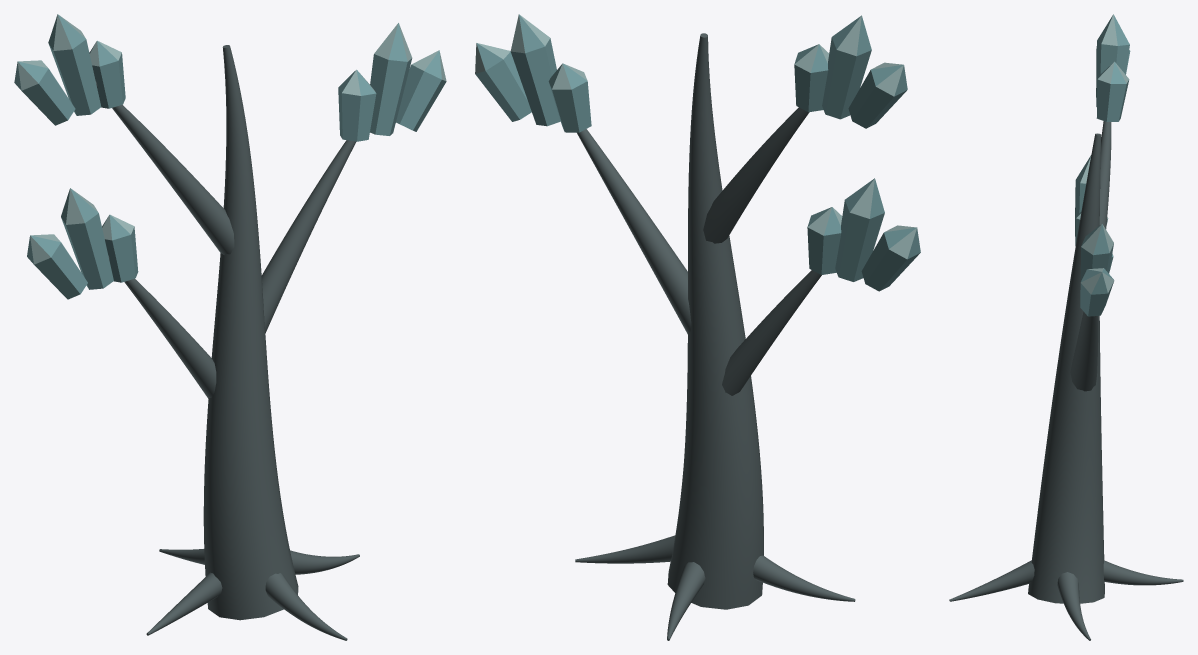
Rendered from crystal_tree.glb.
3 renders of one model, left to right at view 1: azimuth 30°, elevation 25°; view 2: azimuth 150°, elevation 25°; view 3: azimuth 270°, elevation 25°, orthographic. The views are drawn at different scales.
Visible parts, largest first — view 1: crystal_tree; view 2: crystal_tree; view 3: crystal_tree.
Part boxes in pixels (x1=…): crystal_tree: x1=14, y1=14, x2=446, y2=640; crystal_tree: x1=475, y1=14, x2=920, y2=640; crystal_tree: x1=949, y1=14, x2=1183, y2=640.
Bounding box in the file's own units: 1.53 × 2.15 × 0.8856.
